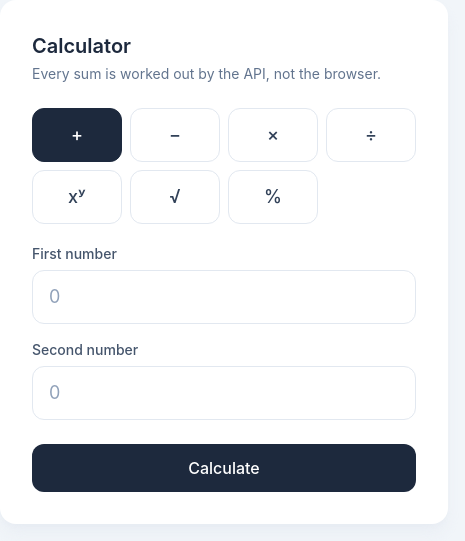
Test case: choosing an operation › hides the second field for square root
The image size is (465, 541).
Click the button named "square root" at (175,197), box [130, 170, 220, 224]
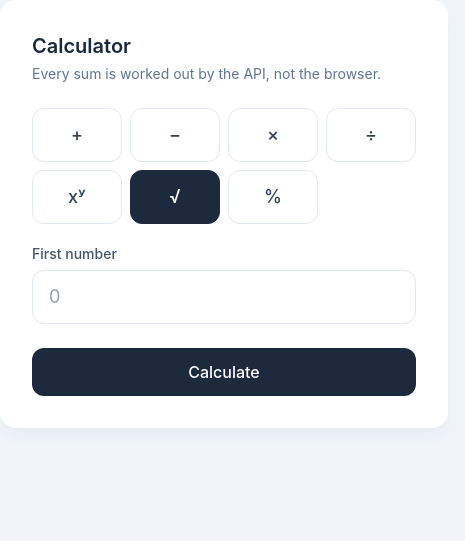
Check: the label labelled "Second number" is gone
